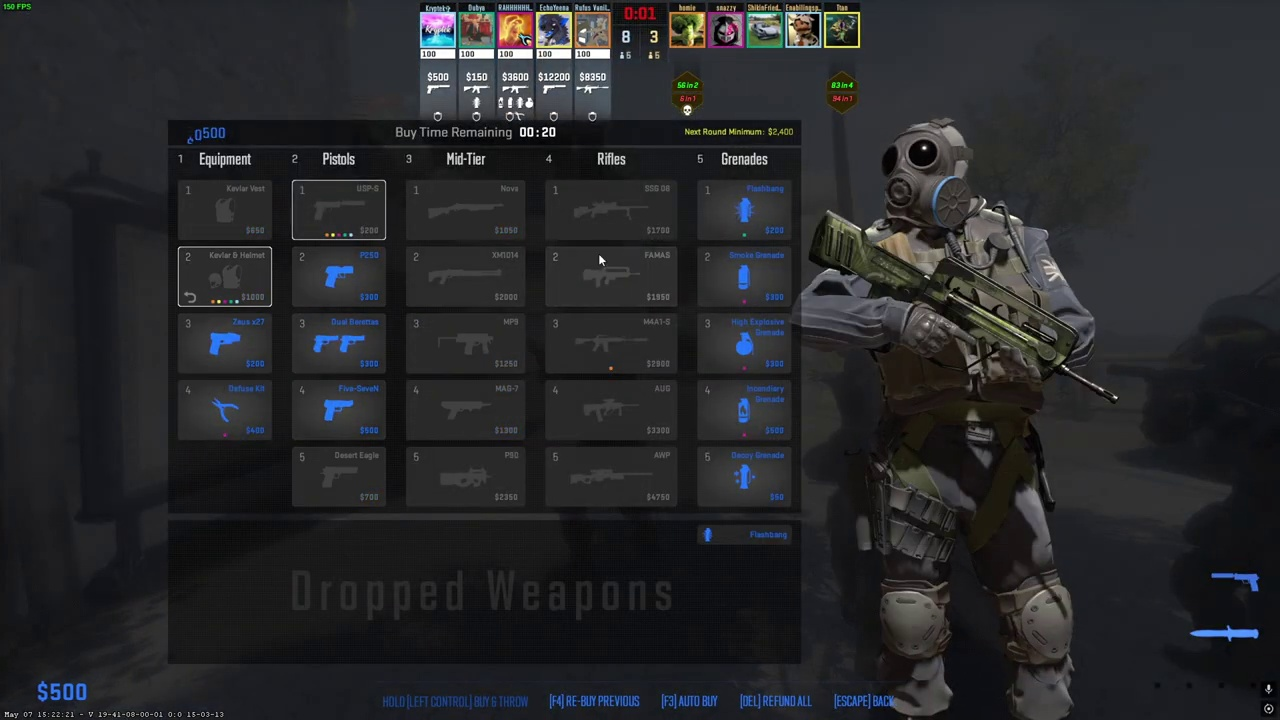CT: (857, 125, 1080, 720)
